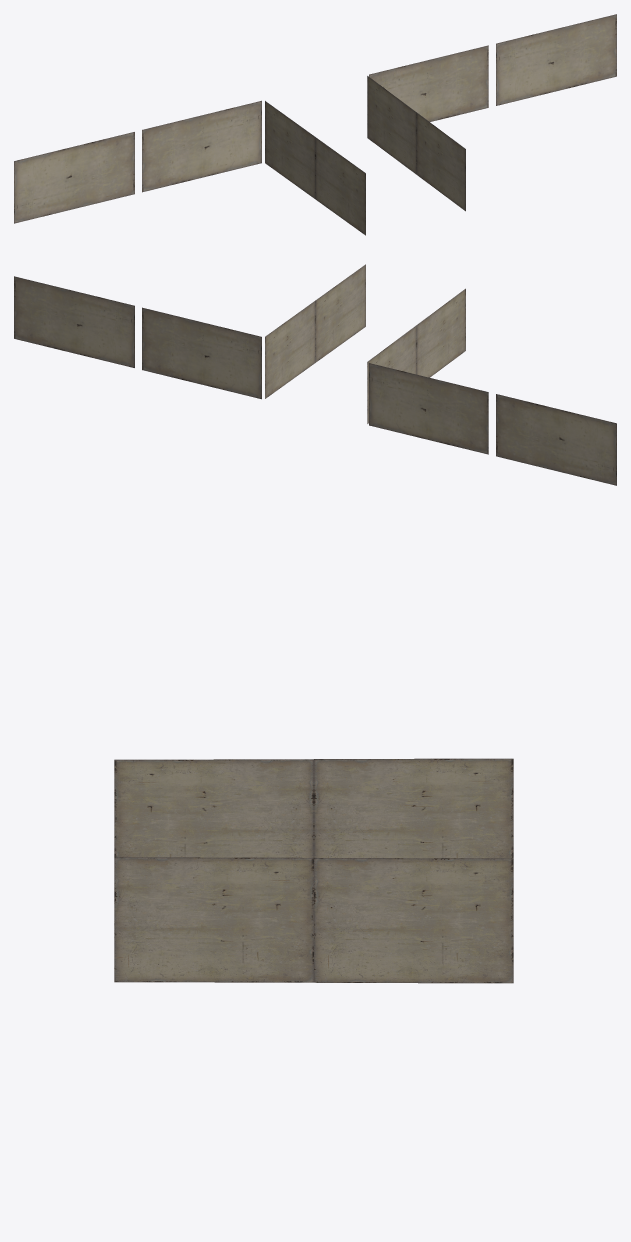
File: Corridor_00_05.fbx
The picture shows the model from 3 angles, top to bottom: view 1: azimuth 30°, elevation 25°; view 2: azimuth 150°, elevation 25°; view 3: azimuth 270°, elevation 25°; orthographic projection. The views are drawn at different scales.
Parts seen in each view (by area): view 1: Corridor_00_05.008, Corridor_00_05.007, Corridor_00_05.001, Corridor_00_05.006, Corridor_00_05.002, Corridor_00_05.003, Corridor_00_05.004, Corridor_00_05.005; view 2: Corridor_00_05.007, Corridor_00_05.008, Corridor_00_05.001, Corridor_00_05.006, Corridor_00_05.004, Corridor_00_05.005, Corridor_00_05.003, Corridor_00_05.002; view 3: Corridor_00_05.004, Corridor_00_05.005, Corridor_00_05.002, Corridor_00_05.003.
Boxes of the visible parts, x1,y1,x2,y2 form: Corridor_00_05.008: (14, 132, 134, 223); Corridor_00_05.007: (496, 14, 616, 105); Corridor_00_05.001: (142, 100, 261, 192); Corridor_00_05.006: (369, 45, 488, 121); Corridor_00_05.002: (265, 101, 315, 199); Corridor_00_05.003: (315, 137, 365, 235); Corridor_00_05.004: (416, 112, 465, 211); Corridor_00_05.005: (367, 76, 416, 174); Corridor_00_05.007: (14, 276, 134, 367); Corridor_00_05.008: (496, 394, 616, 485); Corridor_00_05.001: (369, 363, 488, 454); Corridor_00_05.006: (142, 307, 261, 399); Corridor_00_05.004: (315, 264, 365, 362); Corridor_00_05.005: (265, 300, 315, 398); Corridor_00_05.003: (416, 288, 465, 377); Corridor_00_05.002: (367, 325, 416, 423); Corridor_00_05.004: (114, 857, 313, 982); Corridor_00_05.005: (314, 858, 513, 983); Corridor_00_05.002: (314, 758, 513, 858); Corridor_00_05.003: (114, 759, 313, 857).
Size of the model in its own units: 2230 by 221 by 644.
